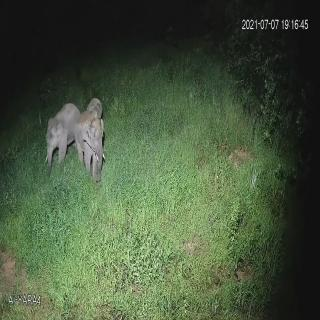Elephant: (42, 97, 82, 182), (75, 106, 106, 186)
